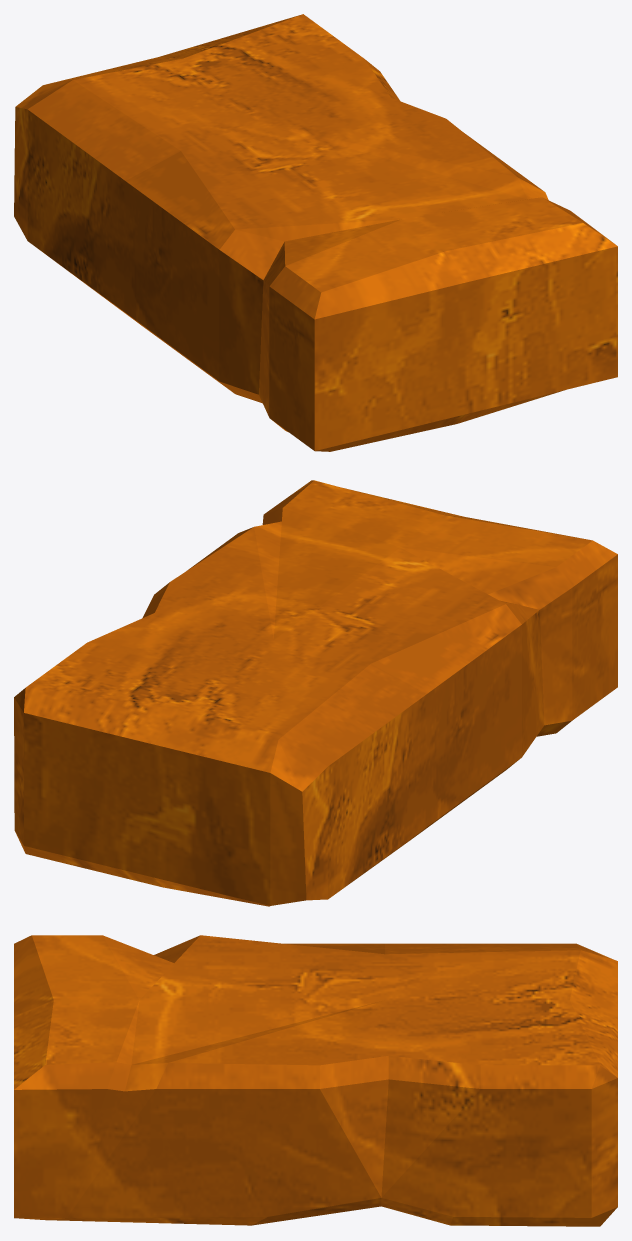
File: castObj_brick.fbx
3 views of the same model, one above another, from view 1: azimuth 30°, elevation 25°; view 2: azimuth 150°, elevation 25°; view 3: azimuth 270°, elevation 25° (orthographic). The views are drawn at different scales.
Parts seen in each view (by area): view 1: castObj_brick; view 2: castObj_brick; view 3: castObj_brick.
Part boxes in pixels (x1=…): castObj_brick: x1=14, y1=14, x2=617, y2=451; castObj_brick: x1=14, y1=480, x2=617, y2=906; castObj_brick: x1=14, y1=935, x2=617, y2=1226.
Size of the model in its own units: 0.2757 by 0.1442 by 0.4848.
1 material, 1 textured.
